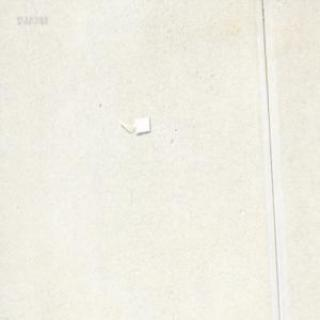LuggageTagtrack_idkeyframe: (117, 116, 150, 134)
